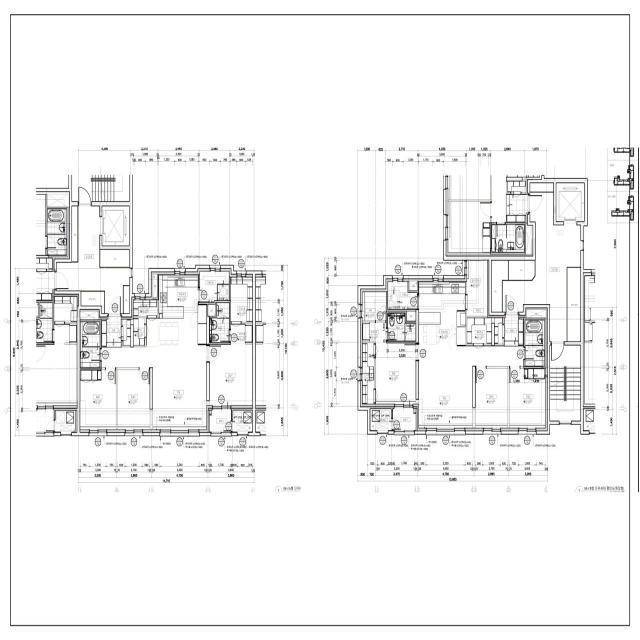space_balconi: (393, 409, 416, 431), (210, 410, 231, 432)
space_bedroom: (209, 344, 253, 406), (376, 343, 416, 405), (510, 366, 546, 428), (80, 370, 116, 429), (475, 366, 508, 428), (118, 370, 150, 429)
space_dressroom: (231, 277, 252, 322), (362, 343, 376, 404), (362, 322, 386, 341), (231, 325, 252, 342)
space_elevator: (99, 206, 129, 246)
space_elevator_hall: (503, 183, 584, 342), (57, 206, 129, 313)
space_front: (101, 317, 131, 347), (504, 318, 524, 346)
space_kitchen: (418, 282, 466, 346), (159, 275, 198, 318)
space_living_room: (102, 305, 207, 430), (419, 346, 524, 428)
space_multipurpose_space: (200, 271, 229, 302), (388, 282, 418, 309)
space_other: (466, 260, 487, 317), (567, 268, 581, 341), (492, 261, 508, 312), (362, 292, 387, 321), (467, 318, 492, 344), (509, 261, 535, 280), (100, 250, 129, 267), (81, 292, 104, 313), (134, 300, 159, 318), (133, 319, 146, 347), (72, 206, 78, 262), (494, 318, 504, 344), (530, 183, 553, 192), (80, 311, 98, 320), (527, 310, 546, 318), (124, 286, 129, 313), (406, 311, 416, 322), (153, 275, 157, 298), (409, 281, 417, 291), (208, 305, 215, 316)
space_outdoor_room: (370, 409, 391, 430), (233, 410, 252, 432)
space_staircase: (549, 345, 581, 421)
space_toilet: (80, 321, 100, 368), (525, 320, 545, 367), (388, 312, 416, 342), (210, 303, 229, 342)
